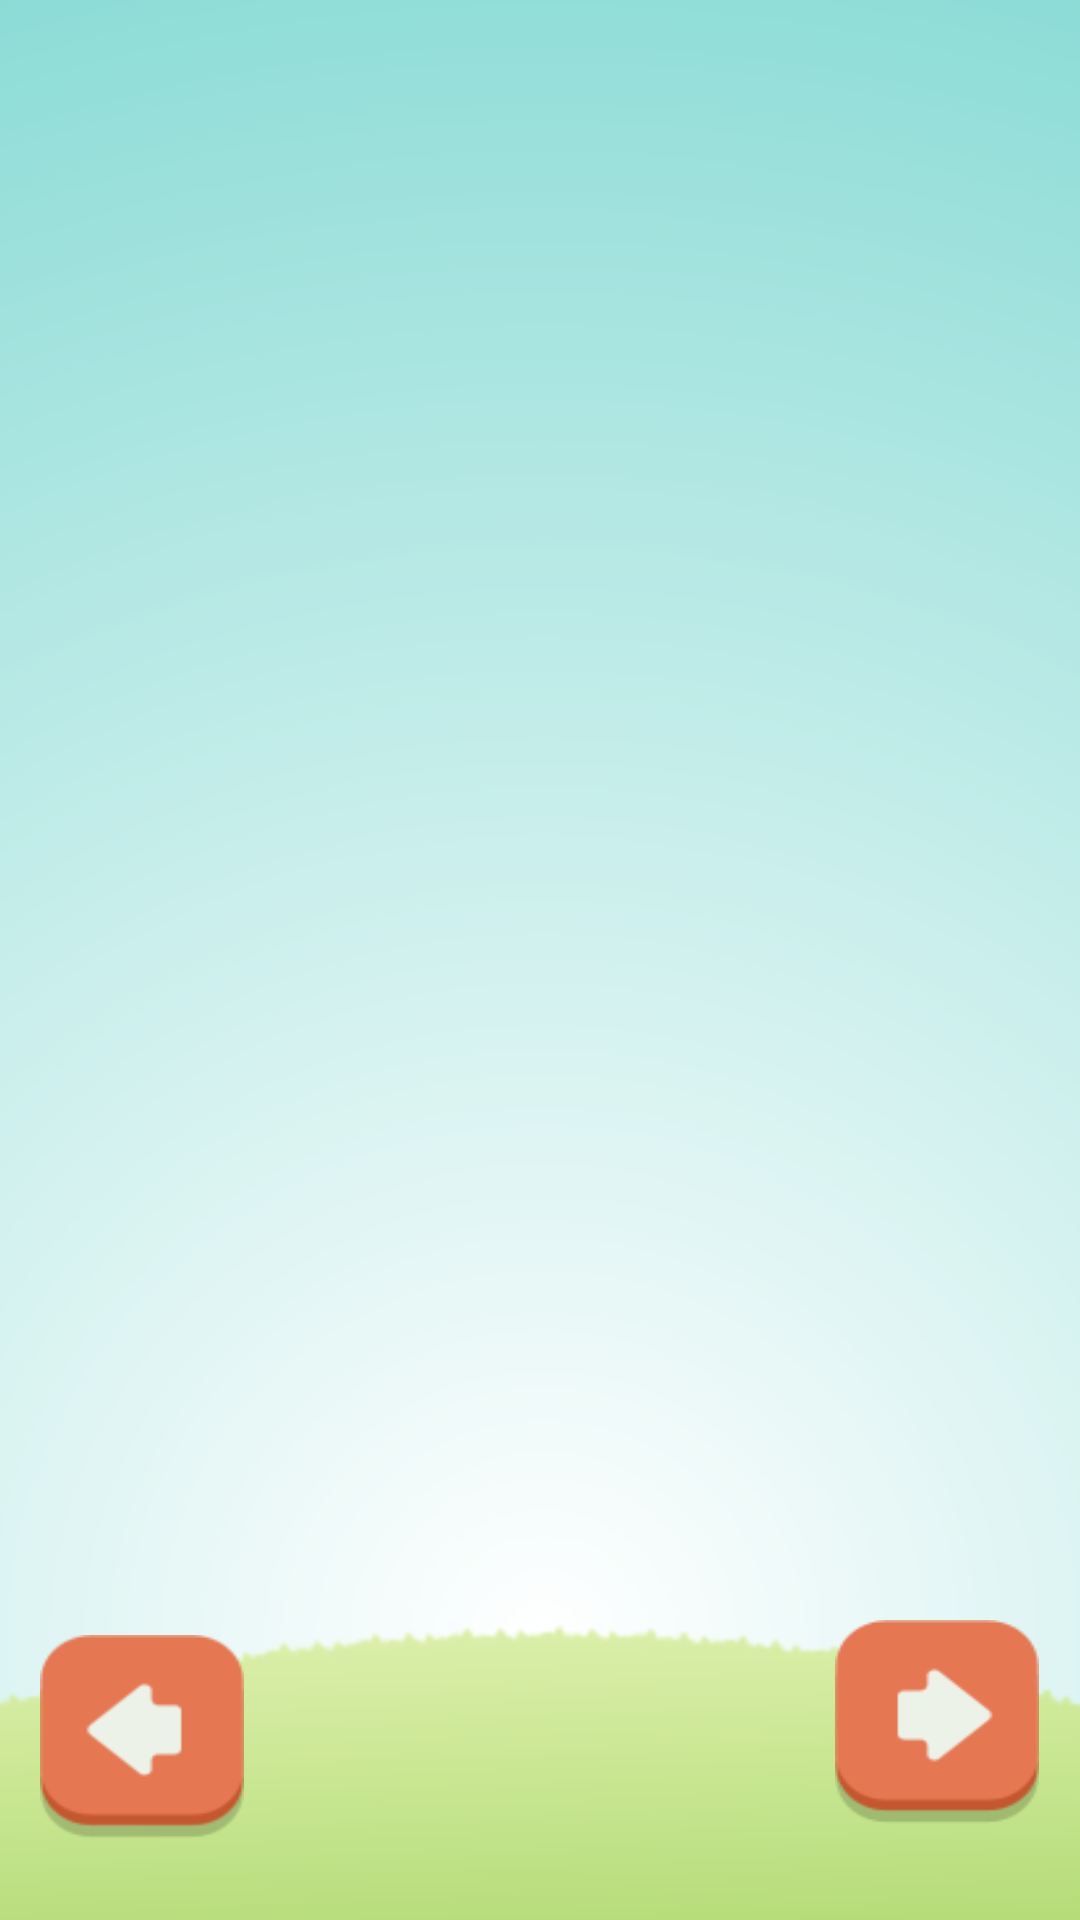

Icon click points for this 1080x1920 phone screenshot, format [x,y]:
back: [142,1735]
next: [937,1722]
